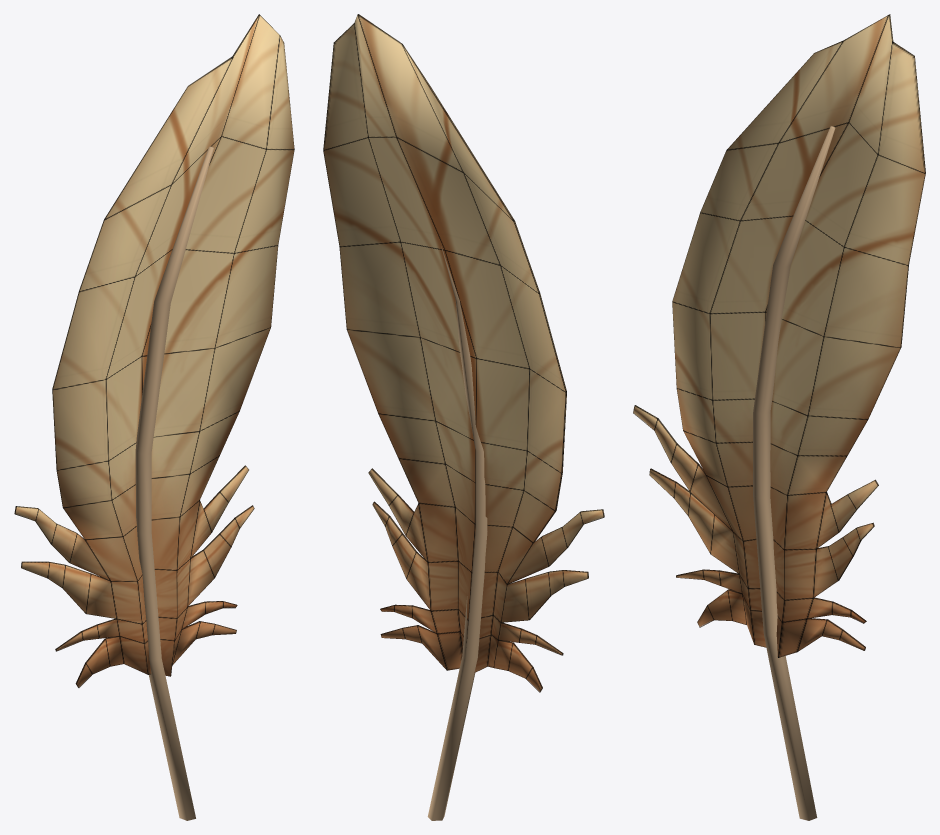
File: feather (1).fbx
3 renders of one model, left to right at view 1: azimuth 30°, elevation 25°; view 2: azimuth 150°, elevation 25°; view 3: azimuth 330°, elevation 25°, orthographic. The views are drawn at different scales.
Visible parts, largest first — view 1: Plane, Cylinder; view 2: Plane, Cylinder; view 3: Plane, Cylinder.
Boxes of the visible parts, left/top/right/bottom form: Plane: left=14, top=14, right=294, bottom=687; Cylinder: left=135, top=146, right=213, bottom=820; Plane: left=323, top=14, right=604, bottom=692; Cylinder: left=427, top=246, right=487, bottom=820; Plane: left=633, top=14, right=925, bottom=657; Cylinder: left=753, top=126, right=835, bottom=820.
Bounding box in the file's own units: 183 × 16.17 × 489.
2 materials, 1 textured.
